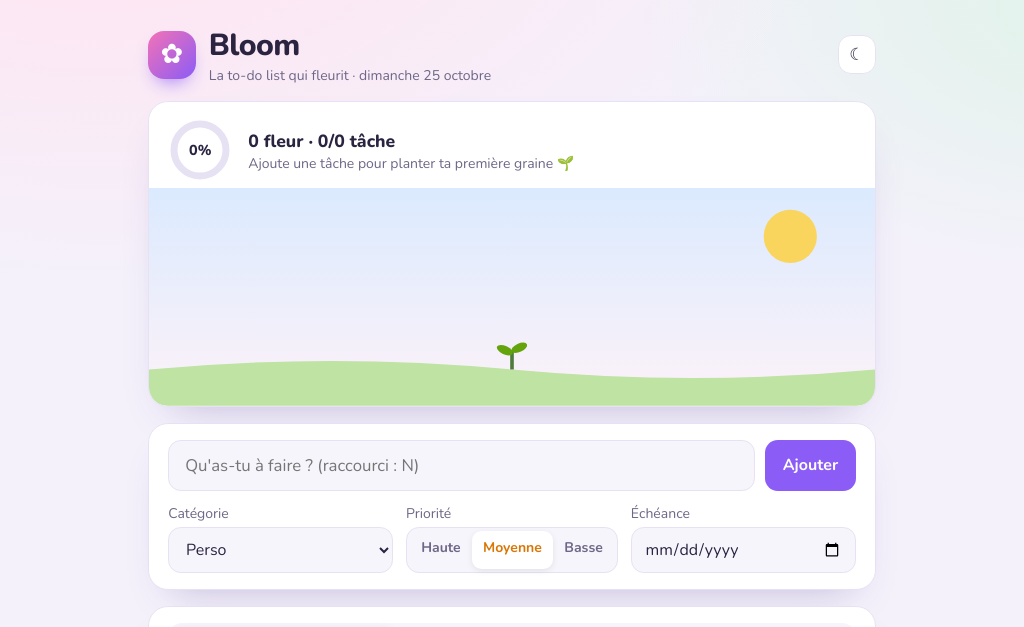
Bloom app › shows an error for an empty title
Click the button "Ajouter".
click(810, 466)  # box [765,440,856,491]
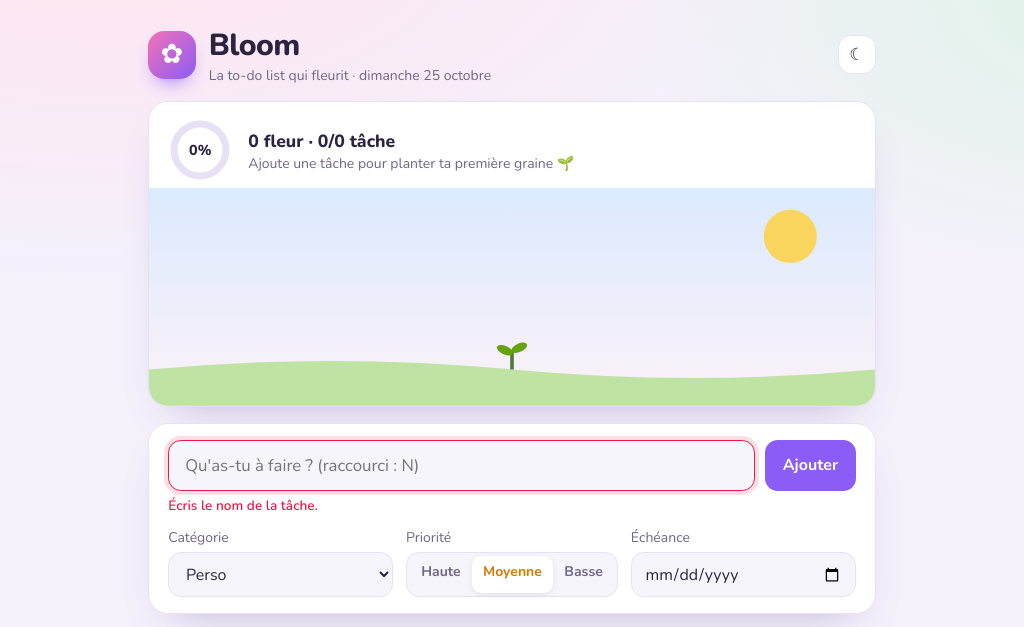
Expected: the message reads "Écris le nom de la tâche.", [168,496,318,515]
